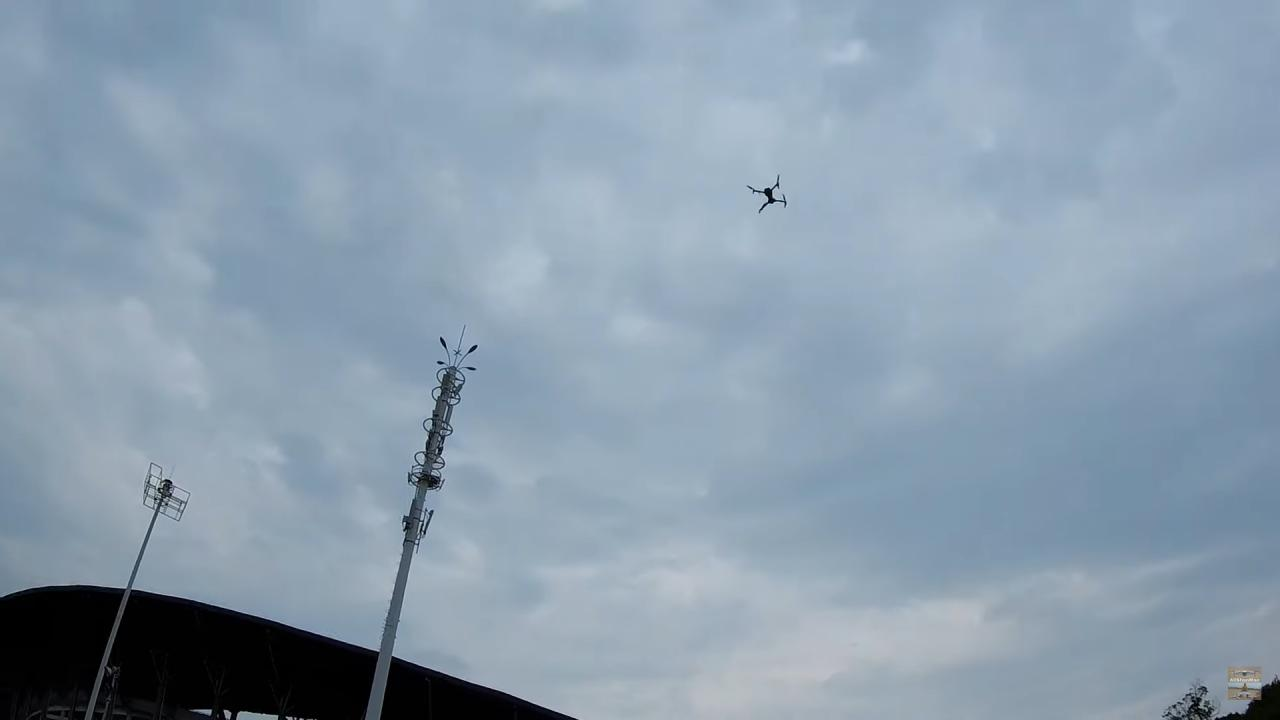Drone: (739, 168, 794, 221)
